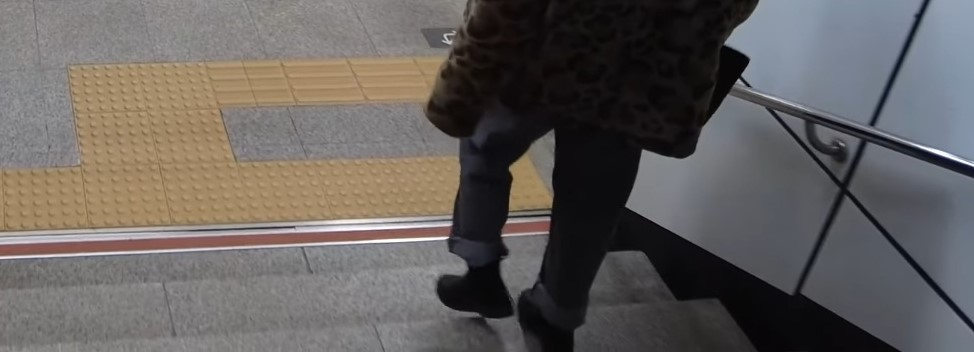guideBlock: (207, 55, 292, 102), (352, 62, 441, 98), (278, 66, 361, 103)
warningBlock: (81, 161, 168, 228), (74, 106, 166, 162), (7, 170, 89, 232), (318, 150, 390, 218), (161, 166, 251, 217), (379, 164, 471, 213), (149, 109, 240, 158), (241, 165, 321, 219), (459, 158, 552, 204), (130, 71, 204, 110), (66, 66, 124, 99)
